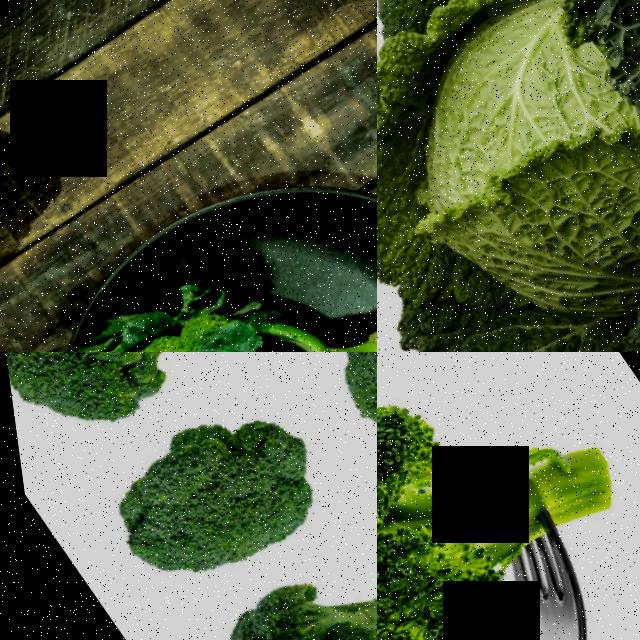broccoli: (24, 352, 374, 638), (377, 352, 640, 640), (1, 183, 377, 352), (0, 0, 137, 304), (0, 352, 284, 480), (163, 509, 377, 640)
cabbage: (377, 0, 640, 352)
